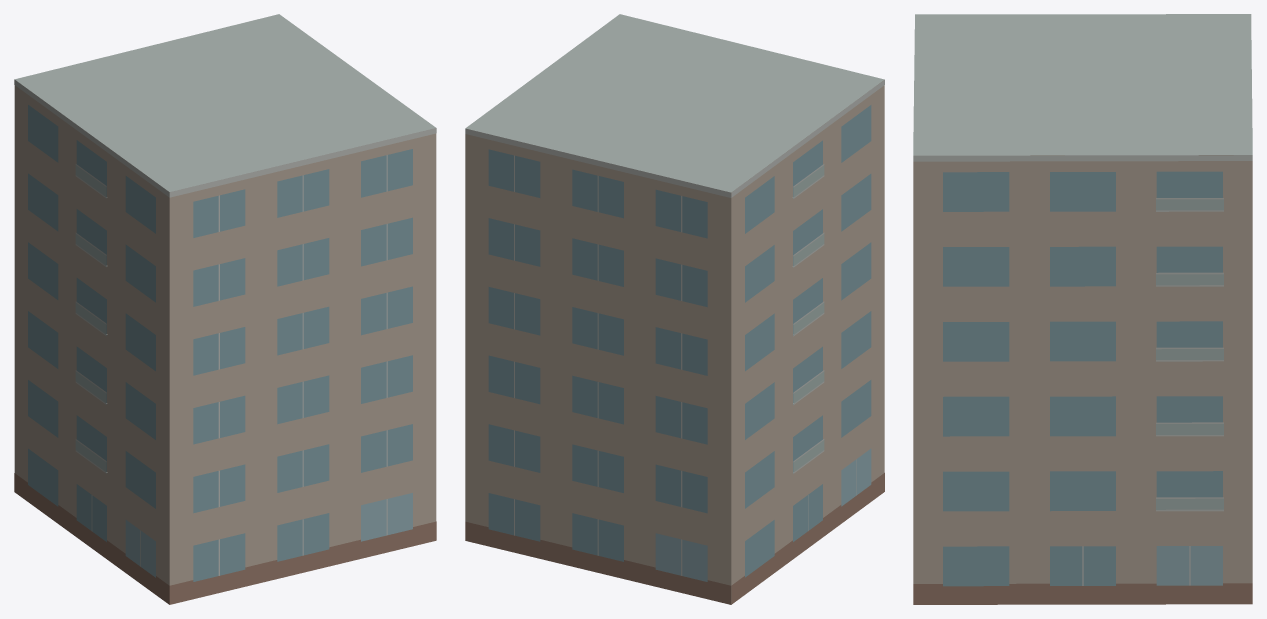
Rendered from survey-upis-32876244.glb.
3 renders of one model, left to right at view 1: azimuth 30°, elevation 25°; view 2: azimuth 150°, elevation 25°; view 3: azimuth 270°, elevation 25°, orthographic. The views are drawn at different scales.
Visible parts, largest first — view 1: survey-upis-32876244.tmp; view 2: survey-upis-32876244.tmp; view 3: survey-upis-32876244.tmp.
Boxes of the visible parts, <box> form: survey-upis-32876244.tmp: <box>14,14,436,604</box>; survey-upis-32876244.tmp: <box>465,14,884,604</box>; survey-upis-32876244.tmp: <box>913,14,1252,604</box>.
Size of the model in its own units: 12.41 by 18.3 by 12.55.
